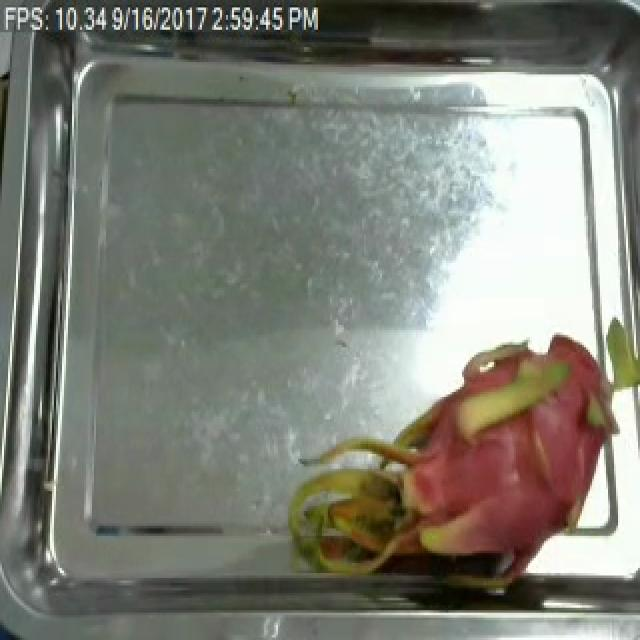fruit: (244, 298, 632, 608)
